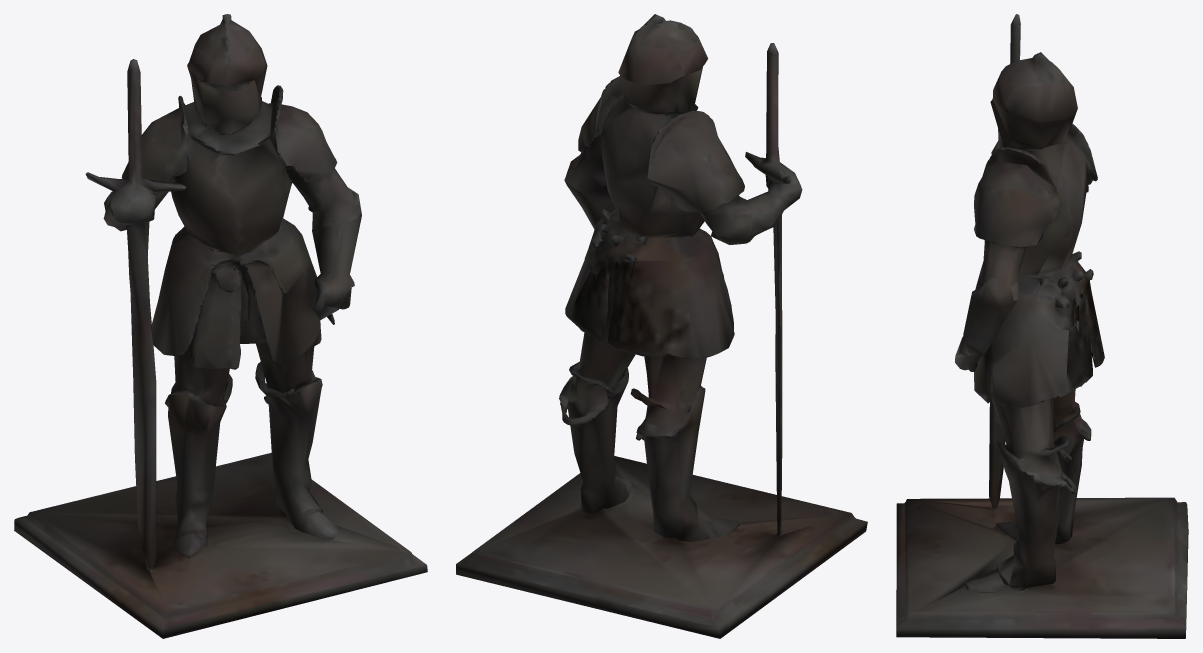
File: old-iron-suit-of-armour-v001.glb
3 renders of one model, left to right at view 1: azimuth 30°, elevation 25°; view 2: azimuth 150°, elevation 25°; view 3: azimuth 270°, elevation 25°, orthographic. The views are drawn at different scales.
Visible parts, largest first — view 1: old-iron-suit-of-armour; view 2: old-iron-suit-of-armour; view 3: old-iron-suit-of-armour.
Boxes of the visible parts, bbox=[...] form: old-iron-suit-of-armour: bbox=[14, 14, 427, 638]; old-iron-suit-of-armour: bbox=[456, 14, 867, 638]; old-iron-suit-of-armour: bbox=[896, 14, 1188, 638].
Bounding box in the file's own units: 0.9574 × 1.85 × 0.9325.
Materials: 1 (1 with a texture image).
